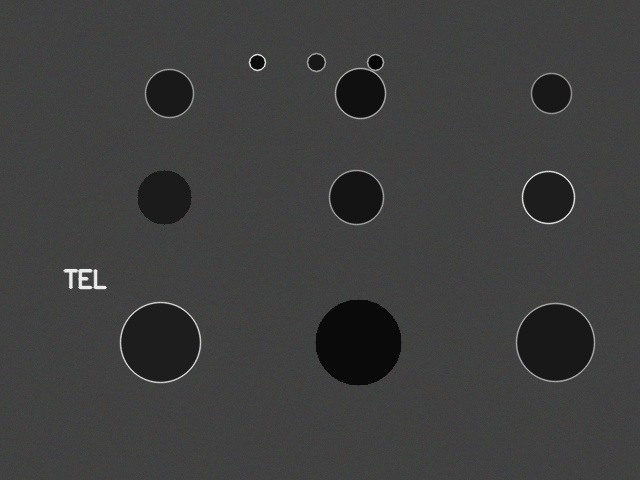hole: (315, 299, 401, 385), (120, 302, 200, 382), (516, 303, 594, 381), (137, 170, 191, 224), (329, 170, 383, 224), (522, 171, 574, 223), (335, 68, 385, 118), (145, 69, 193, 117), (531, 73, 571, 113), (307, 53, 325, 71), (249, 54, 265, 70), (367, 54, 383, 70)
